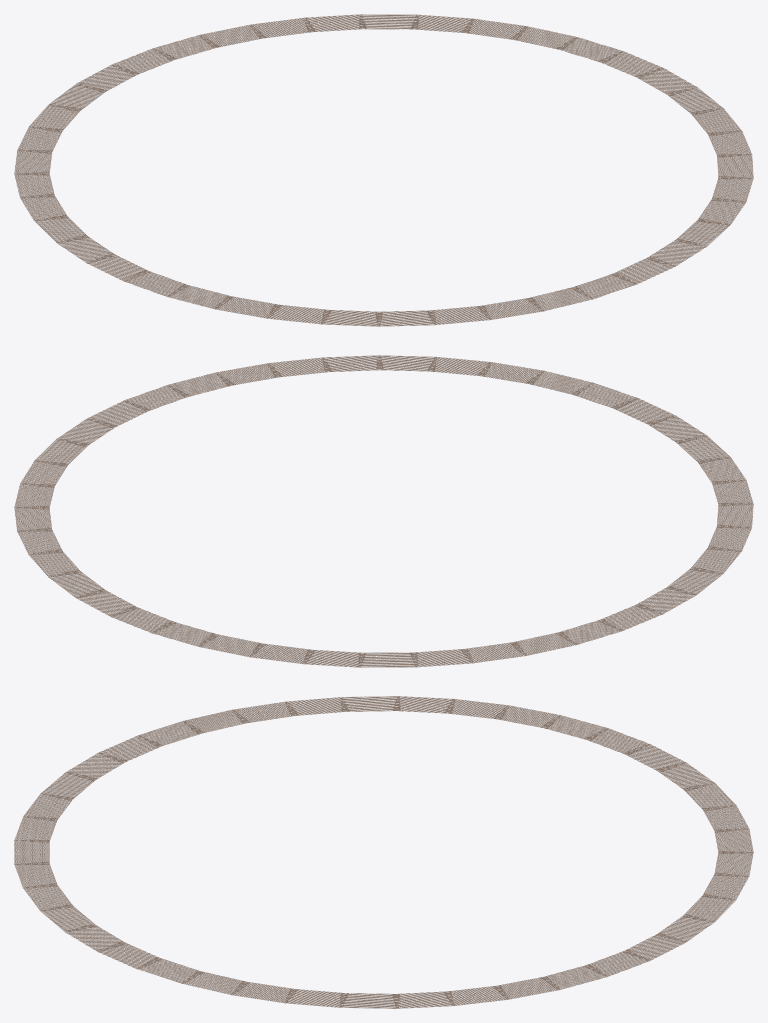
Rendered from catwalk.fbx.
The picture shows the model from 3 angles, top to bottom: view 1: azimuth 30°, elevation 25°; view 2: azimuth 150°, elevation 25°; view 3: azimuth 270°, elevation 25°; orthographic projection.
Parts seen in each view (by area): view 1: Plane.015; view 2: Plane.015; view 3: Plane.015.
Part boxes in pixels (bbox=[...]): Plane.015: bbox=[14, 14, 753, 326]; Plane.015: bbox=[14, 355, 753, 667]; Plane.015: bbox=[14, 696, 753, 1008].
Bounding box in the file's own units: 2500 × 0.000109 × 2502.
Materials: 1 (1 with a texture image).
